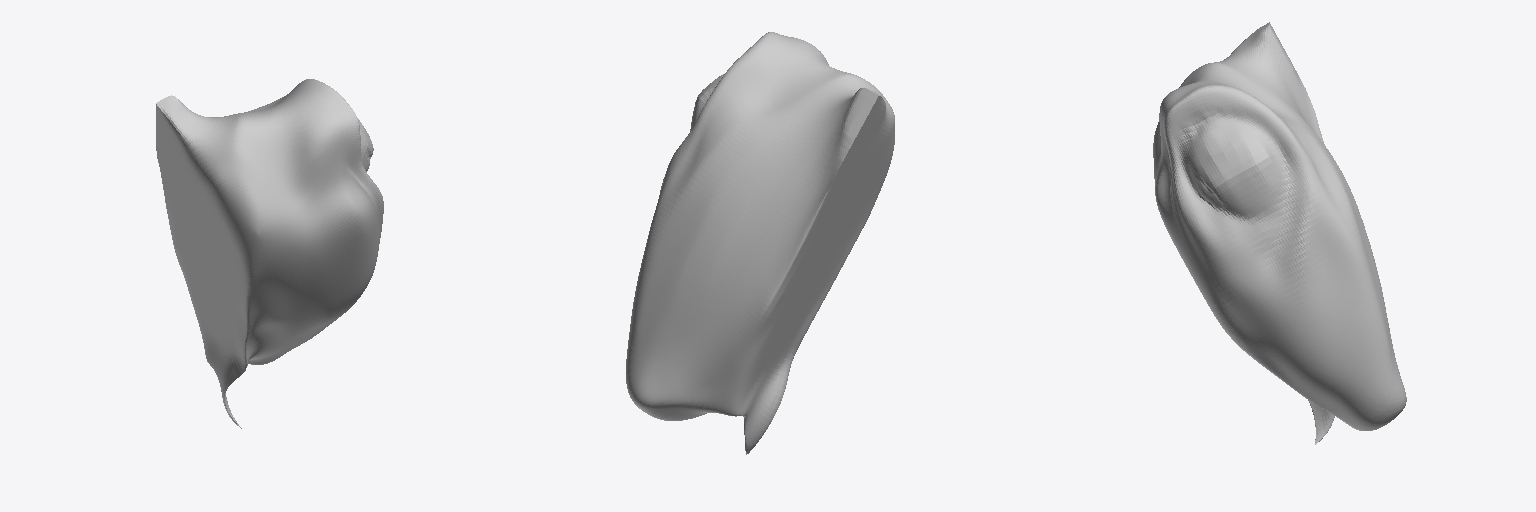
The model's file is baby.obj.
3 views of the same model, side by side, from view 1: azimuth 30°, elevation 25°; view 2: azimuth 150°, elevation 25°; view 3: azimuth 270°, elevation 25° (orthographic).
Parts seen in each view (by area): view 1: Cube; view 2: Cube; view 3: Cube.
Boxes of the visible parts, x1,y1,x2,y2 form: Cube: [156, 79, 383, 428]; Cube: [626, 32, 894, 454]; Cube: [1153, 22, 1406, 444].
Bounding box in the file's own units: 0.5395 × 0.9119 × 0.5605.